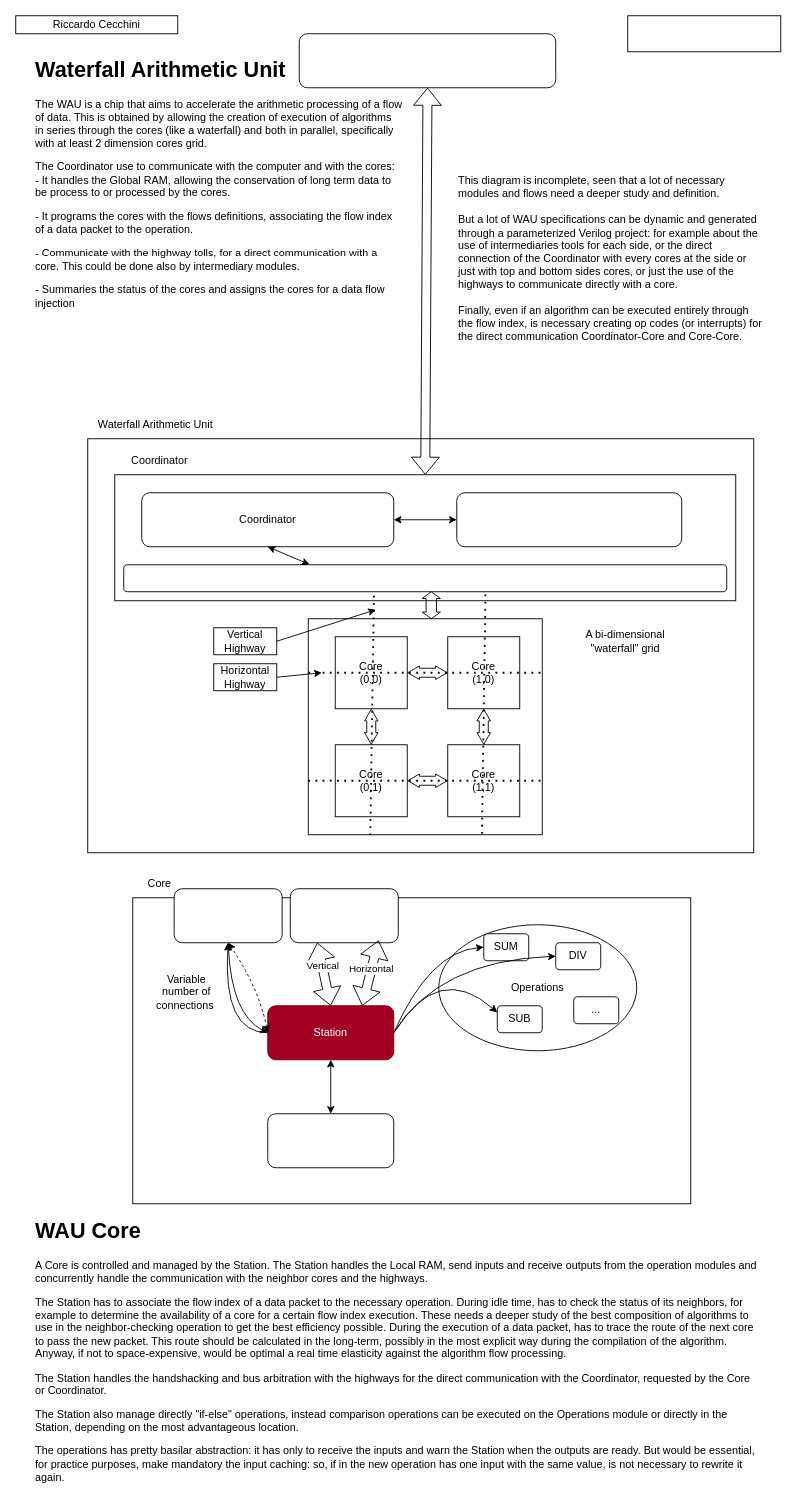
This 797x1501 diagram has some shape labels left out. Here are the shapes that lost their labels. From the top down, the centre of each, then its label:
[704,33]: rcecchini.ds@gmail.com August 2024
[427,60]: Computer
[569,519]: Global RAM
[425,578]: Data stream pins
[227,915]: Neighbor cores
[343,915]: Highways bus
[330,1140]: Local RAM
